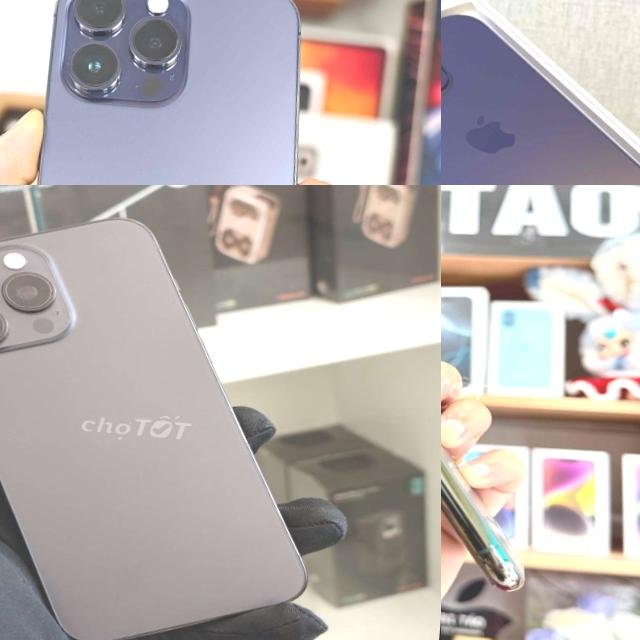gen_11: (441, 445, 524, 590)
gen_14: (1, 0, 330, 185), (441, 0, 640, 185)
gen_15: (0, 202, 340, 640)
